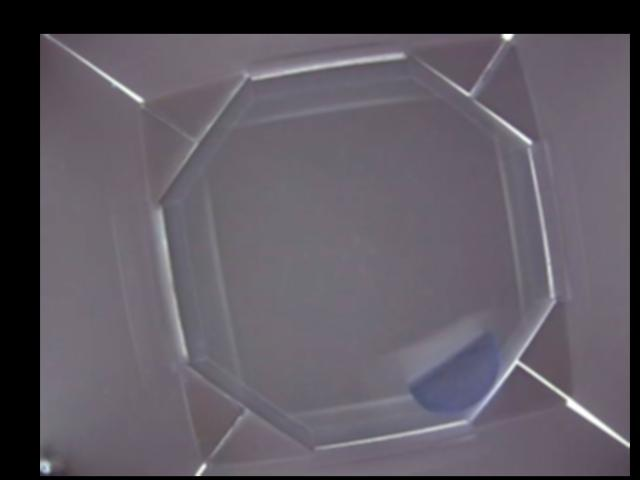Mooli: (412, 325, 495, 410)
